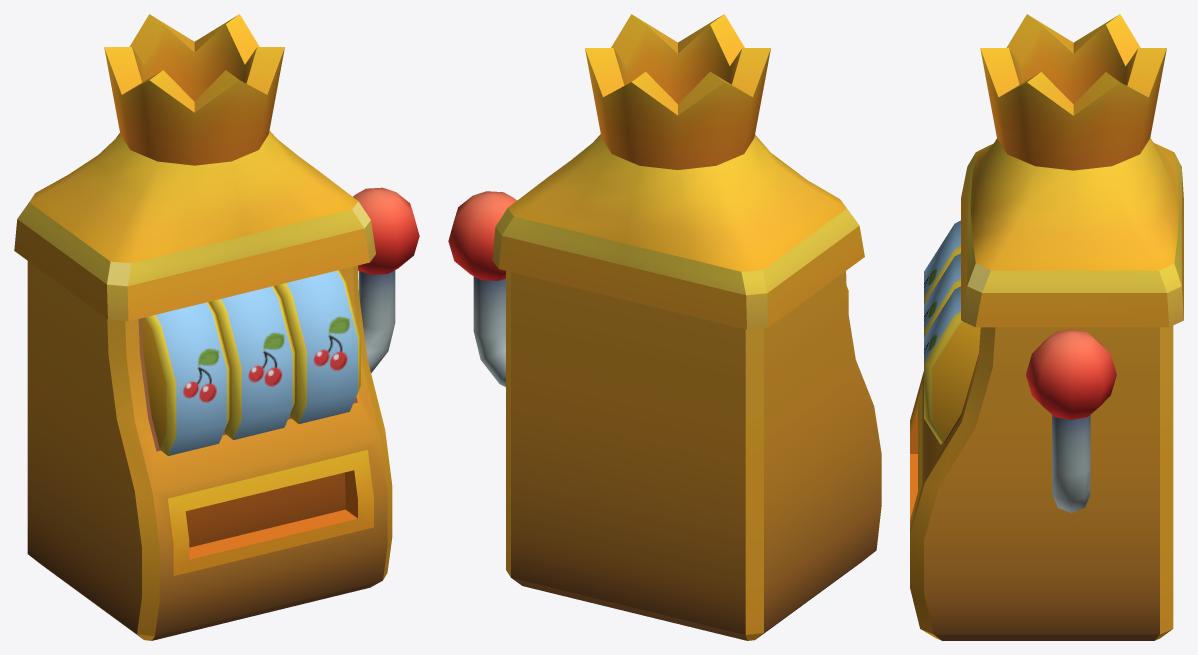
Rendered from Jackpot_02.fbx.
3 renders of one model, left to right at view 1: azimuth 30°, elevation 25°; view 2: azimuth 150°, elevation 25°; view 3: azimuth 270°, elevation 25°, orthographic. The views are drawn at different scales.
Parts seen in each view (by area): view 1: Jackpot_02, Jackpot_02_handle; view 2: Jackpot_02, Jackpot_02_handle; view 3: Jackpot_02, Jackpot_02_handle.
Part boxes in pixels (box(x1,y1,x2,y2)): Jackpot_02: box(14, 14, 392, 640); Jackpot_02_handle: box(353, 187, 419, 373); Jackpot_02: box(492, 14, 881, 640); Jackpot_02_handle: box(448, 191, 516, 386); Jackpot_02: box(910, 14, 1183, 640); Jackpot_02_handle: box(1026, 329, 1116, 513).
Bounding box in the file's own units: 1.57 × 1.02 × 2.21.
